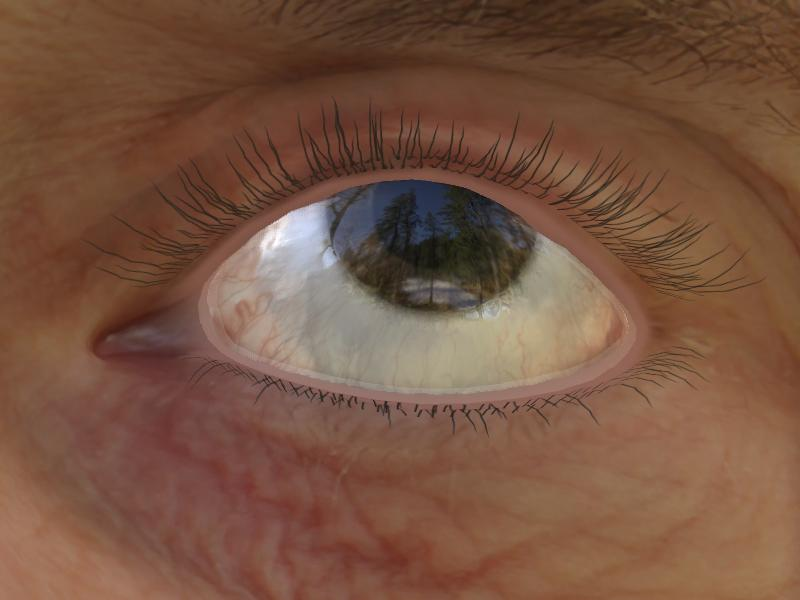eye: (329, 178, 533, 313)
